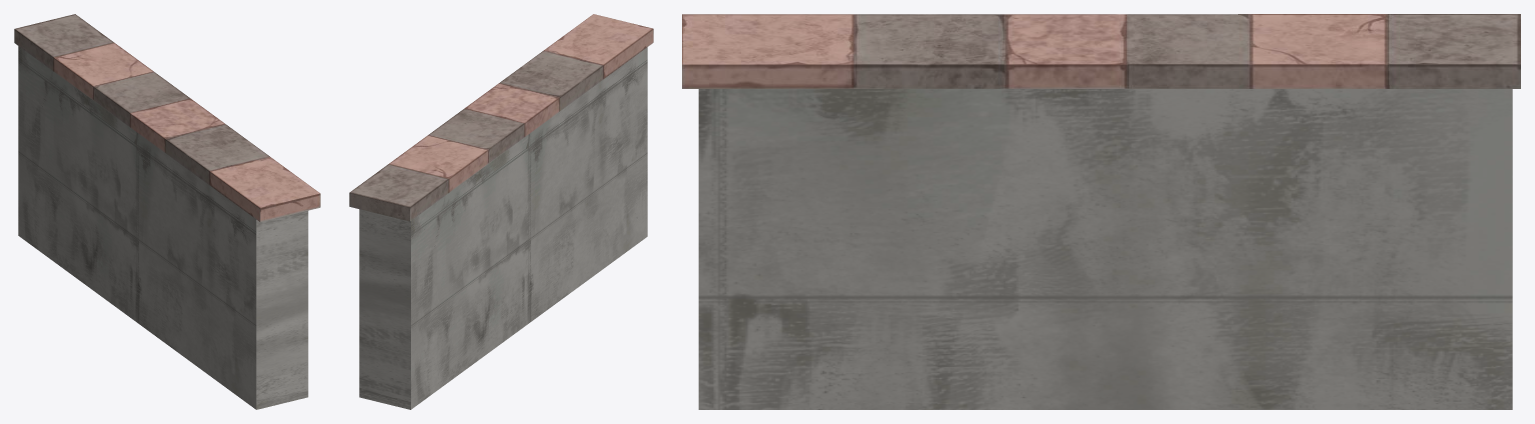
Rendered from wall_08.fbx.
3 views of the same model, side by side, from view 1: azimuth 30°, elevation 25°; view 2: azimuth 150°, elevation 25°; view 3: azimuth 270°, elevation 25° (orthographic). The views are drawn at different scales.
Parts seen in each view (by area): view 1: Object025; view 2: Object025; view 3: Object025.
Part boxes in pixels (x1=…): Object025: x1=14, y1=14, x2=320, y2=409; Object025: x1=349, y1=14, x2=653, y2=409; Object025: x1=682, y1=14, x2=1520, y2=409.
Size of the model in its own units: 88.1 by 284 by 614.
